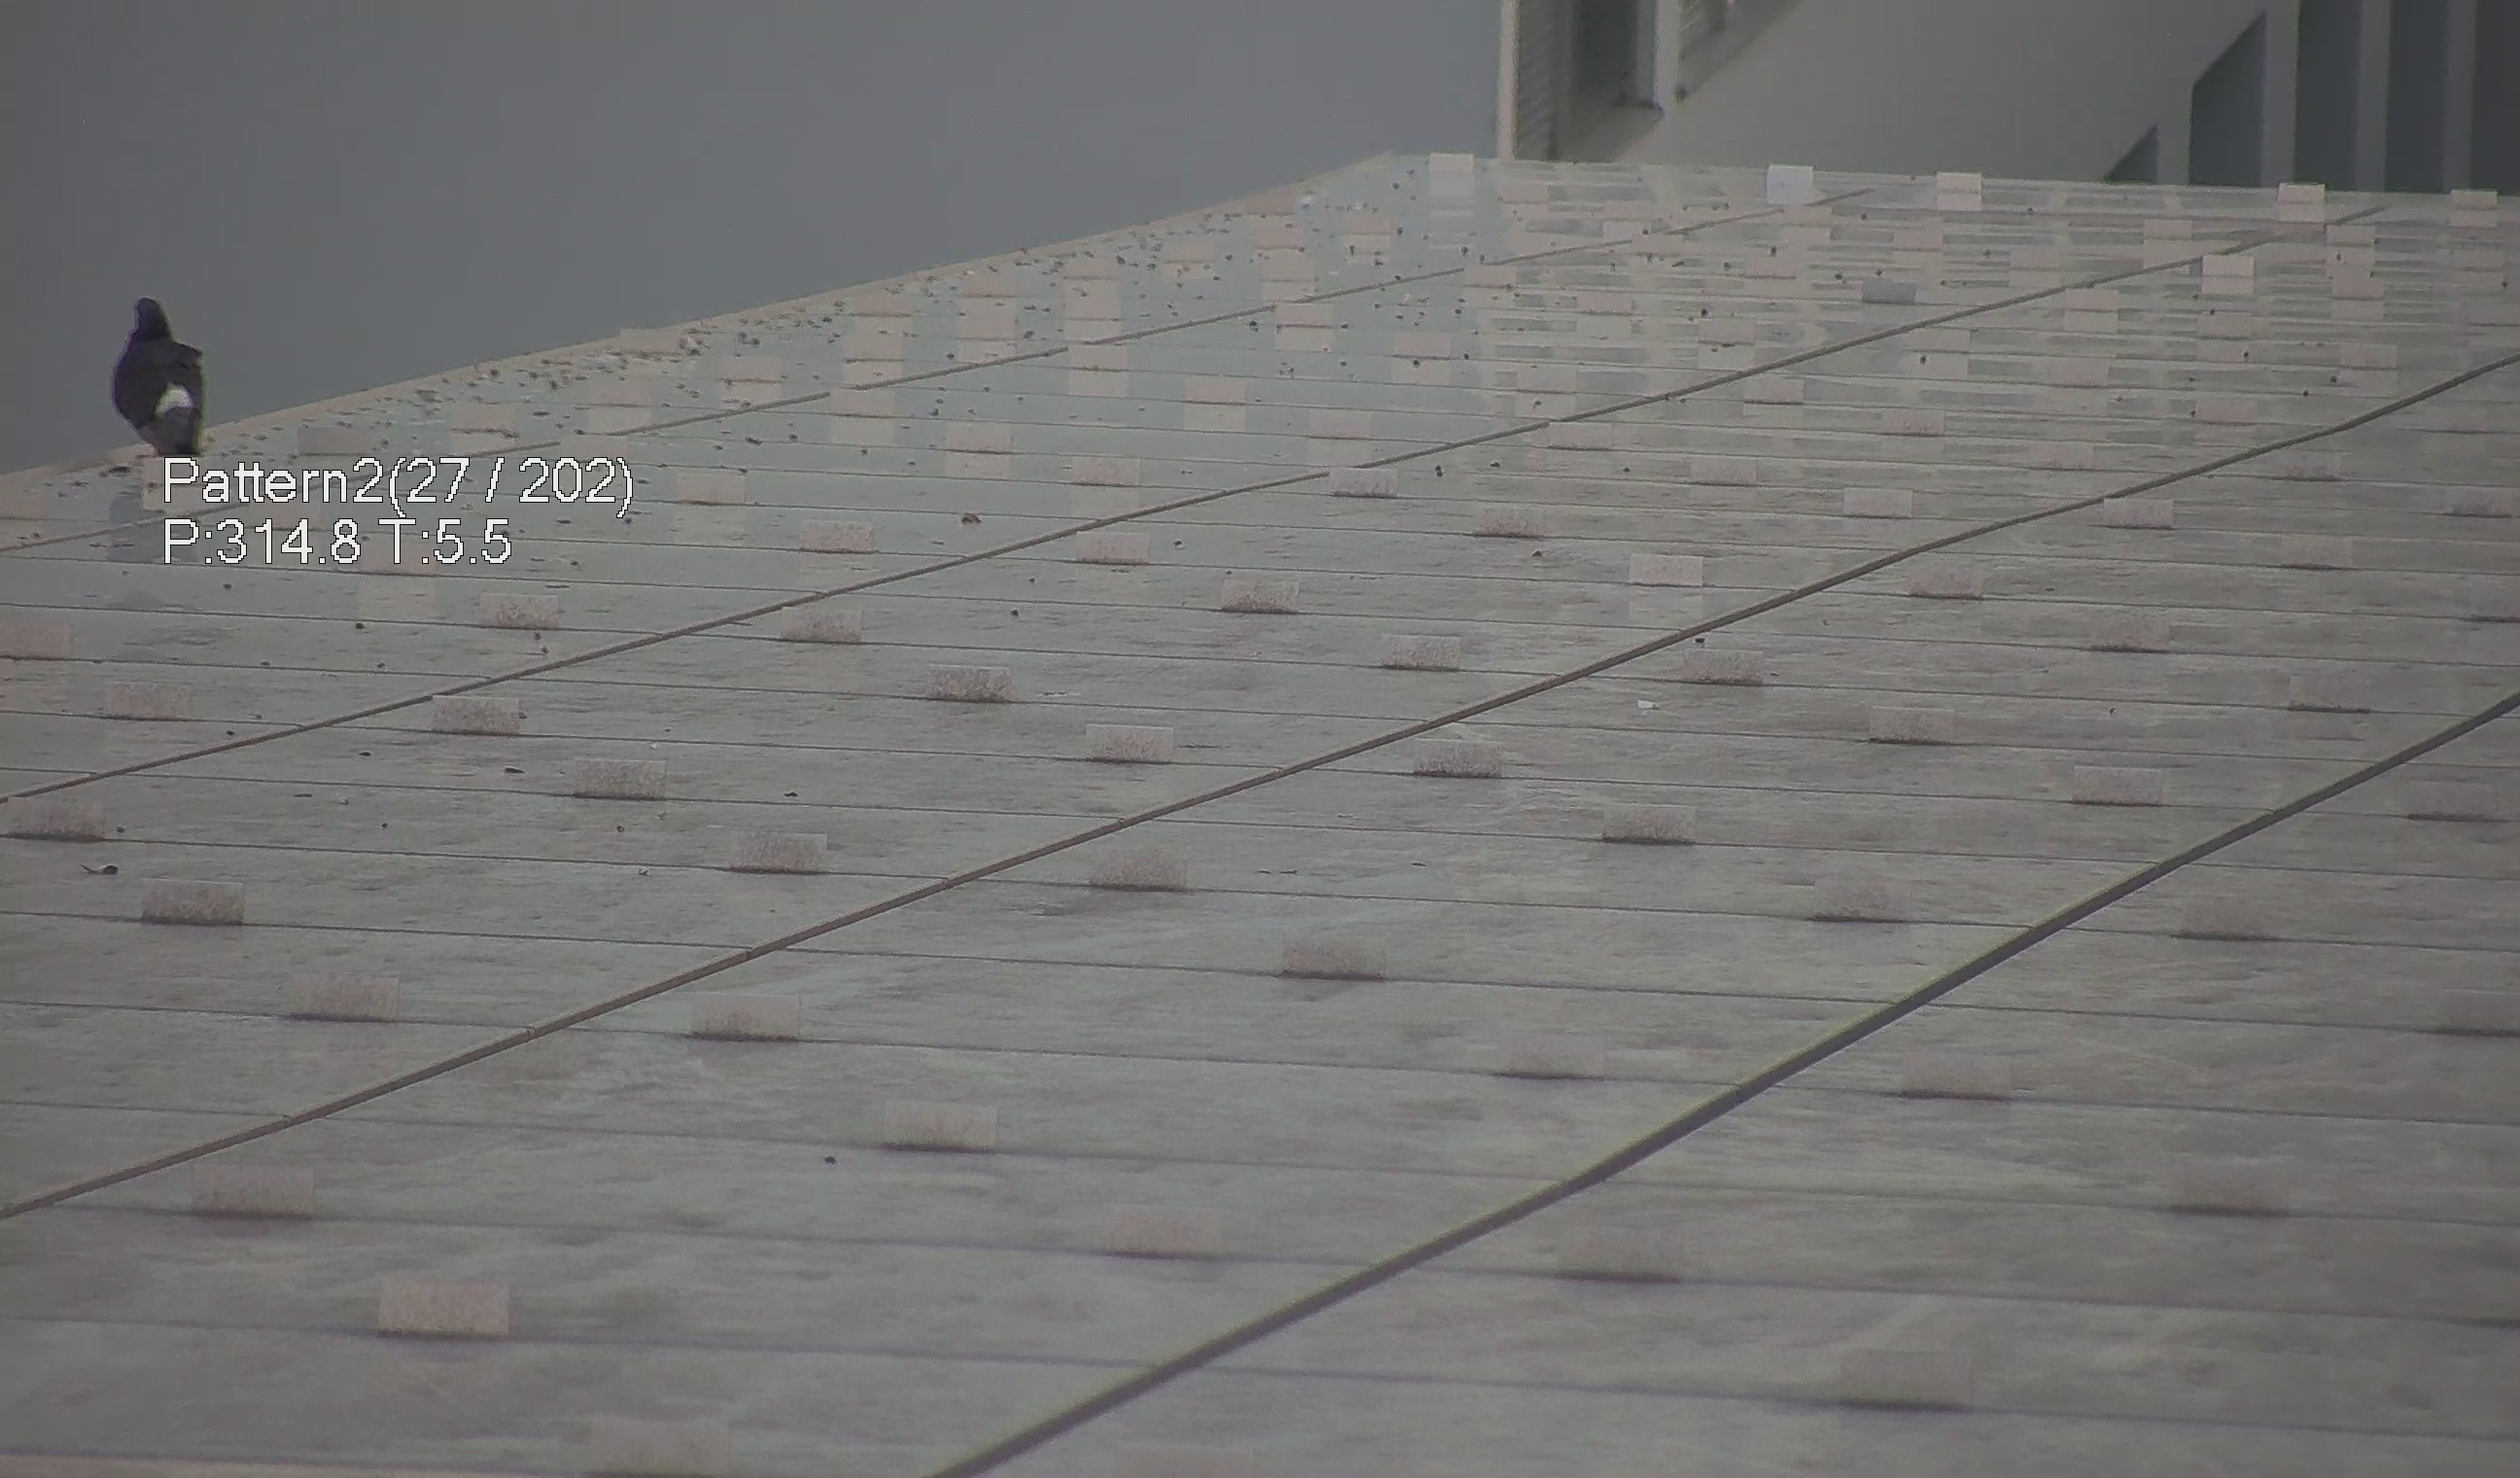Pigeon: (104, 285, 223, 466)
